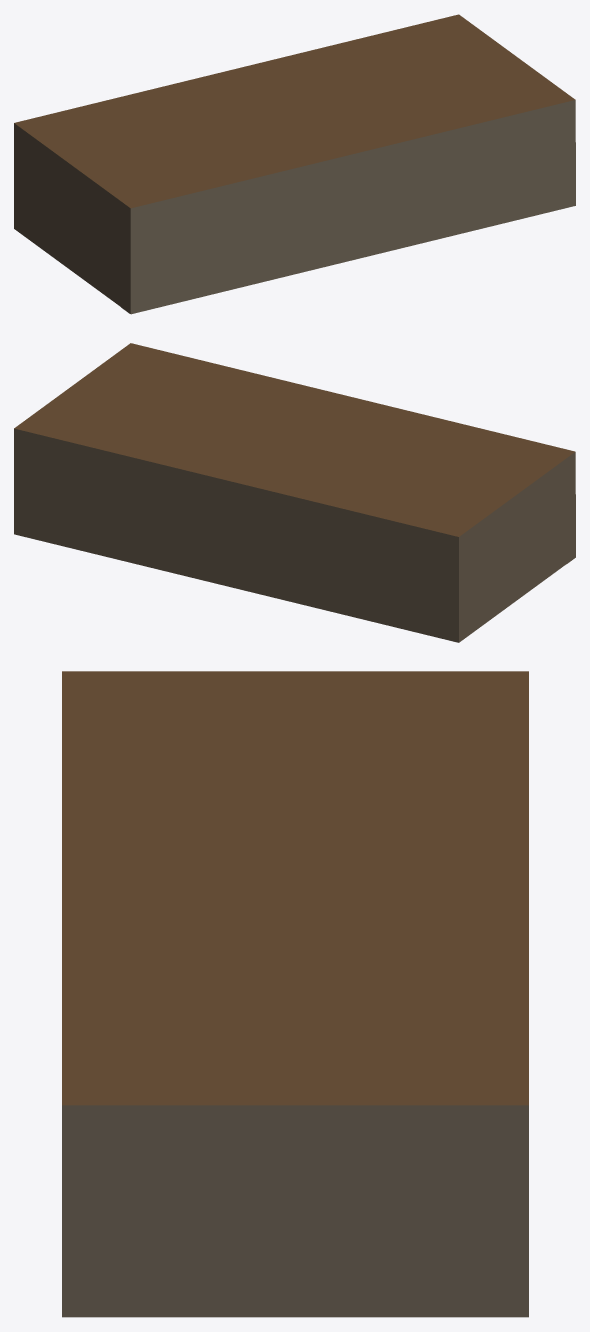
Rendered from fort-stables.far-facades-v2.lod2.glb.
3 renders of one model, top to bottom at view 1: azimuth 30°, elevation 25°; view 2: azimuth 150°, elevation 25°; view 3: azimuth 270°, elevation 25°, orthographic. The views are drawn at different scales.
Parts seen in each view (by area): view 1: fort-stables; view 2: fort-stables; view 3: fort-stables.
Boxes of the visible parts, bbox=[...] form: fort-stables: bbox=[14, 14, 575, 314]; fort-stables: bbox=[14, 343, 575, 642]; fort-stables: bbox=[62, 671, 528, 1317].
Size of the model in its own units: 22.03 by 5.02 by 10.01.
